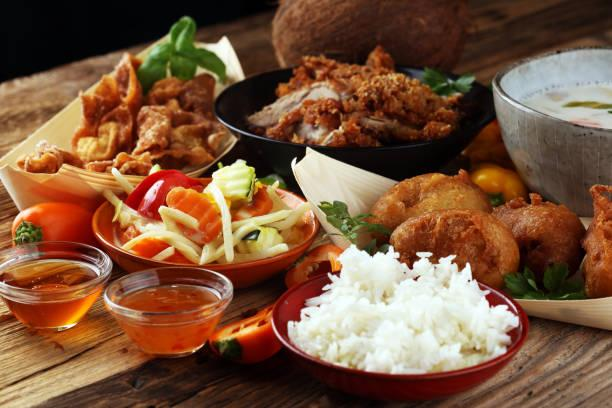Braised Crucian Carp: (296, 149, 612, 325), (1, 29, 240, 213), (217, 64, 488, 187), (93, 179, 314, 291)
